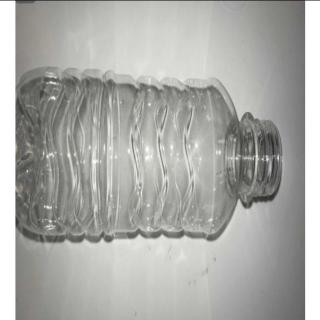Anorganik: (17, 70, 289, 248)
